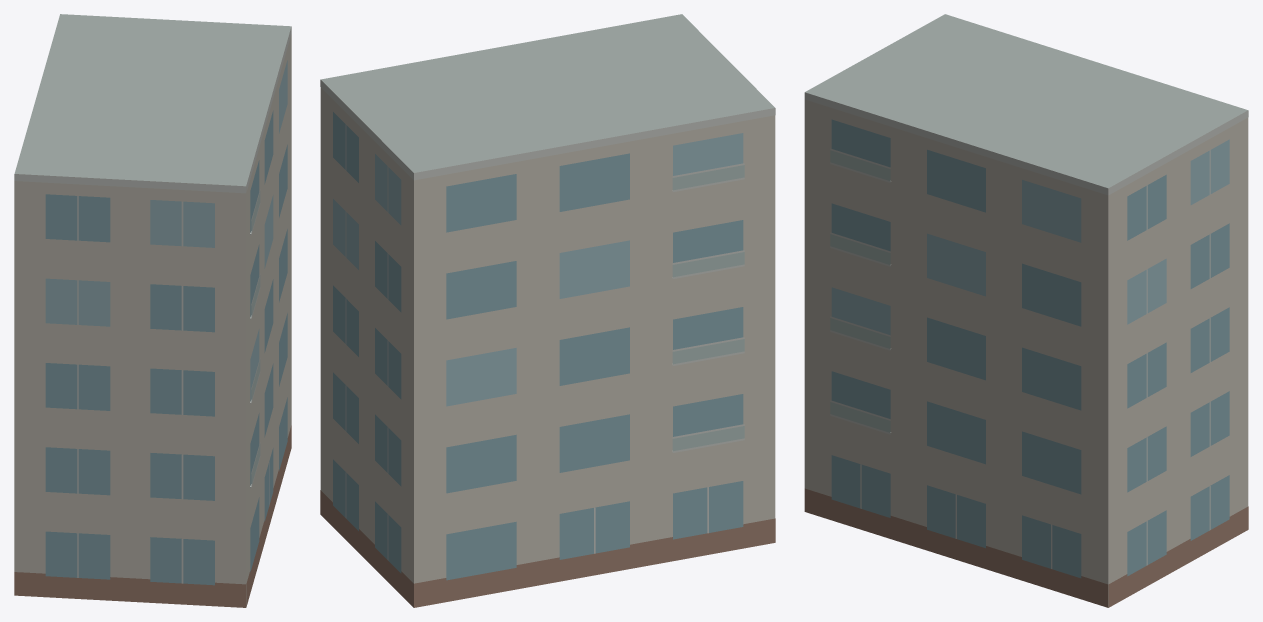
Rendered from survey-upis-32989324.glb.
The picture shows the model from 3 angles, left to right: view 1: azimuth 30°, elevation 25°; view 2: azimuth 150°, elevation 25°; view 3: azimuth 270°, elevation 25°; orthographic projection. The views are drawn at different scales.
Parts seen in each view (by area): view 1: survey-upis-32989324.tmp; view 2: survey-upis-32989324.tmp; view 3: survey-upis-32989324.tmp.
Boxes of the visible parts, box(x1,y1,x2,y2) form: survey-upis-32989324.tmp: box(14, 14, 291, 607); survey-upis-32989324.tmp: box(320, 14, 775, 607); survey-upis-32989324.tmp: box(804, 14, 1248, 607).
Size of the model in its own units: 12.84 by 14.4 by 13.81.
